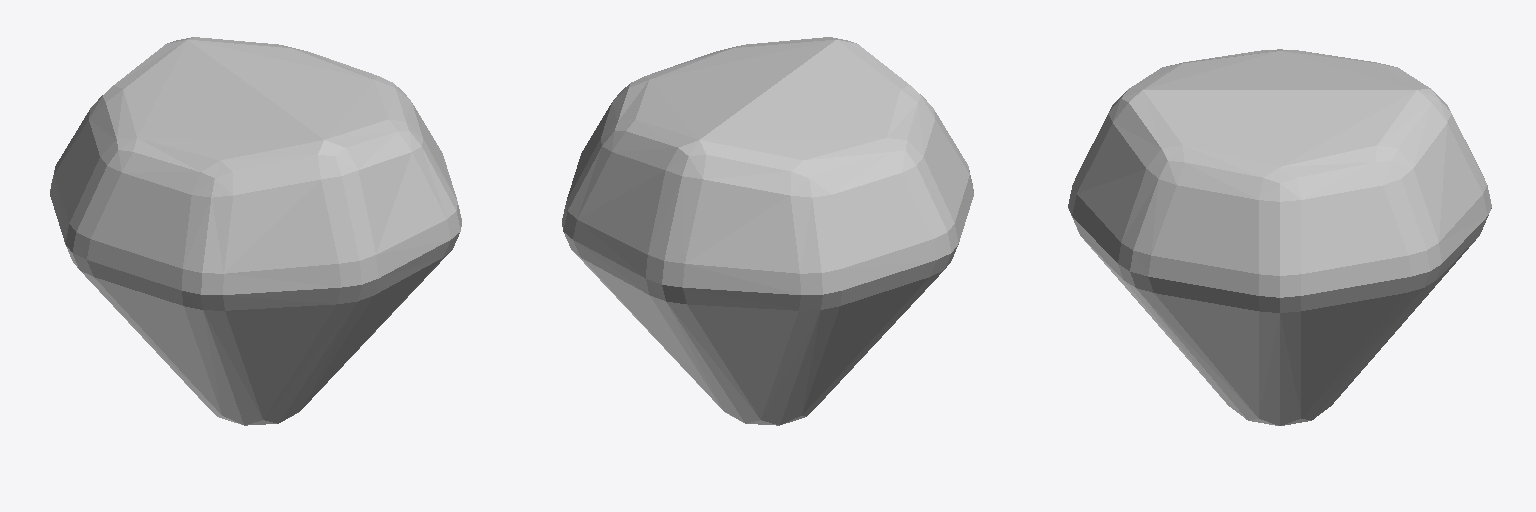
Rendered from diamond.obj.
3 renders of one model, left to right at view 1: azimuth 30°, elevation 25°; view 2: azimuth 150°, elevation 25°; view 3: azimuth 270°, elevation 25°, orthographic.
Parts seen in each view (by area): view 1: pCone1; view 2: pCone1; view 3: pCone1.
Part boxes in pixels (left/top/right/bottom): pCone1: left=50, top=37, right=461, bottom=425; pCone1: left=562, top=37, right=973, bottom=425; pCone1: left=1068, top=49, right=1491, bottom=425.
Bounding box in the file's own units: 1.36 × 1.18 × 1.36.